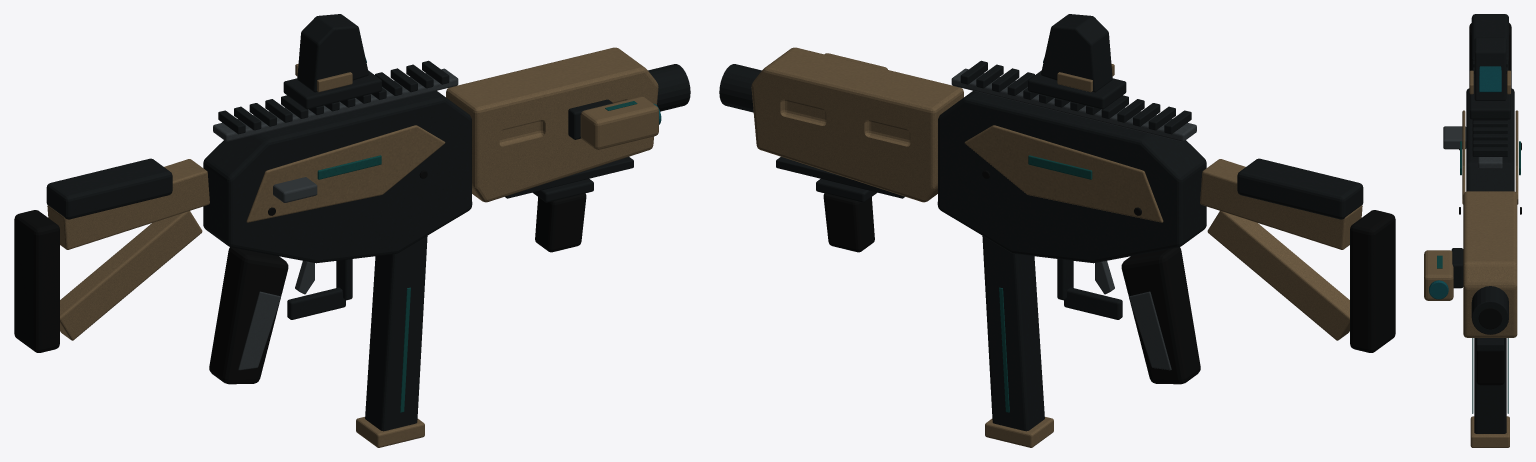
The model's file is wisp02.side_light.glb.
The picture shows the model from 3 angles, left to right: view 1: azimuth 30°, elevation 25°; view 2: azimuth 150°, elevation 25°; view 3: azimuth 270°, elevation 25°; orthographic projection. The views are drawn at different scales.
Parts seen in each view (by area): view 1: wisp02.side_light__root, wisp02.side_light__stock.standard, wisp02.side_light__handguard.standard, wisp02.side_light__magazine, wisp02.side_light__grip, wisp02.side_light__sight, wisp02.side_light__side_light, wisp02.side_light__grip_addon, wisp02.side_light__muzzle, wisp02.side_light__charging_handle; view 2: wisp02.side_light__root, wisp02.side_light__handguard.standard, wisp02.side_light__stock.standard, wisp02.side_light__magazine, wisp02.side_light__grip, wisp02.side_light__sight, wisp02.side_light__grip_addon, wisp02.side_light__muzzle; view 3: wisp02.side_light__handguard.standard, wisp02.side_light__root, wisp02.side_light__sight, wisp02.side_light__magazine, wisp02.side_light__side_light, wisp02.side_light__muzzle, wisp02.side_light__stock.standard, wisp02.side_light__grip_addon, wisp02.side_light__charging_handle.
Boxes of the visible parts, x1=… form: wisp02.side_light__root: x1=203, y1=60, x2=472, y2=319; wisp02.side_light__stock.standard: x1=14, y1=158, x2=209, y2=352; wisp02.side_light__handguard.standard: x1=446, y1=47, x2=658, y2=202; wisp02.side_light__magazine: x1=356, y1=236, x2=427, y2=447; wisp02.side_light__grip: x1=209, y1=247, x2=288, y2=384; wisp02.side_light__sight: x1=283, y1=14, x2=381, y2=109; wisp02.side_light__side_light: x1=568, y1=96, x2=661, y2=149; wisp02.side_light__grip_addon: x1=533, y1=179, x2=593, y2=252; wisp02.side_light__muzzle: x1=648, y1=64, x2=690, y2=111; wisp02.side_light__charging_handle: x1=273, y1=177, x2=317, y2=202; wisp02.side_light__root: x1=937, y1=60, x2=1206, y2=319; wisp02.side_light__handguard.standard: x1=751, y1=47, x2=963, y2=202; wisp02.side_light__stock.standard: x1=1200, y1=158, x2=1395, y2=352; wisp02.side_light__magazine: x1=982, y1=236, x2=1053, y2=447; wisp02.side_light__grip: x1=1121, y1=247, x2=1200, y2=384; wisp02.side_light__sight: x1=1028, y1=14, x2=1126, y2=109; wisp02.side_light__grip_addon: x1=816, y1=179, x2=876, y2=252; wisp02.side_light__muzzle: x1=719, y1=64, x2=761, y2=112; wisp02.side_light__handguard.standard: x1=1463, y1=191, x2=1517, y2=351; wisp02.side_light__root: x1=1459, y1=60, x2=1521, y2=214; wisp02.side_light__sight: x1=1469, y1=37, x2=1510, y2=119; wisp02.side_light__magazine: x1=1470, y1=338, x2=1509, y2=447; wisp02.side_light__side_light: x1=1424, y1=248, x2=1463, y2=300; wisp02.side_light__muzzle: x1=1471, y1=286, x2=1508, y2=334; wisp02.side_light__stock.standard: x1=1469, y1=14, x2=1511, y2=88; wisp02.side_light__grip_addon: x1=1476, y1=338, x2=1504, y2=385; wisp02.side_light__charging_handle: x1=1443, y1=126, x2=1466, y2=149.
Bounding box in the file's own units: 0.6715 × 0.4188 × 0.0995.
Materials: 6 (6 with a texture image).
